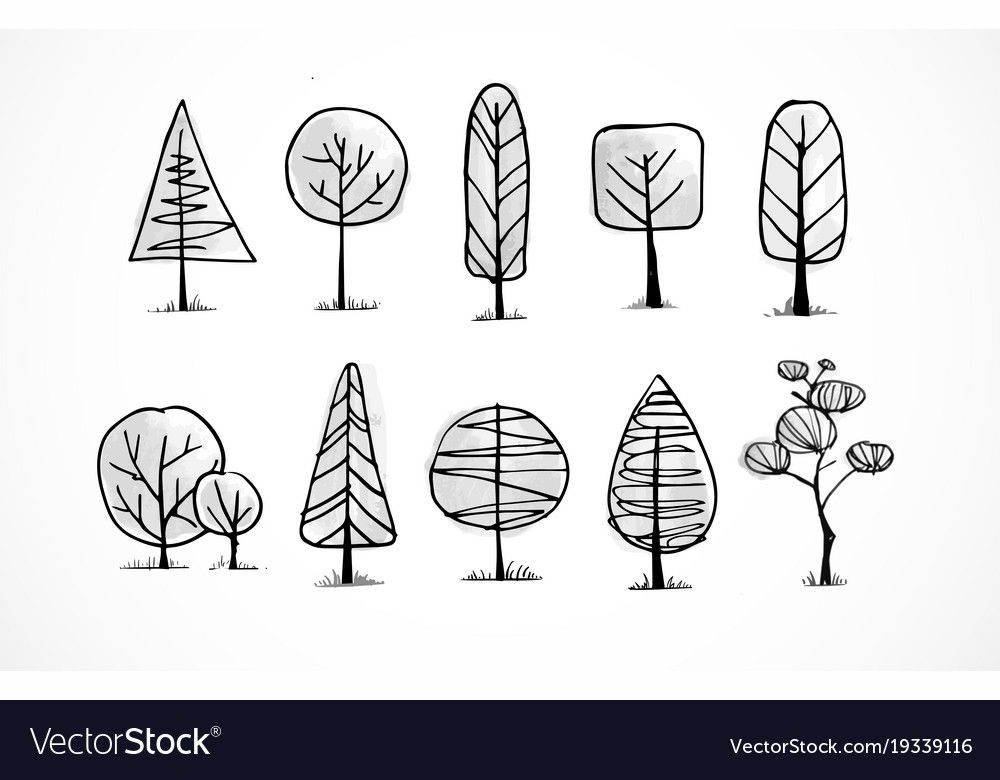tree: (71, 366, 283, 586), (731, 352, 907, 594), (426, 36, 556, 347), (118, 73, 262, 351), (279, 61, 412, 336), (406, 392, 585, 593), (285, 334, 413, 594), (574, 99, 715, 333), (594, 354, 723, 603), (750, 89, 863, 329)
